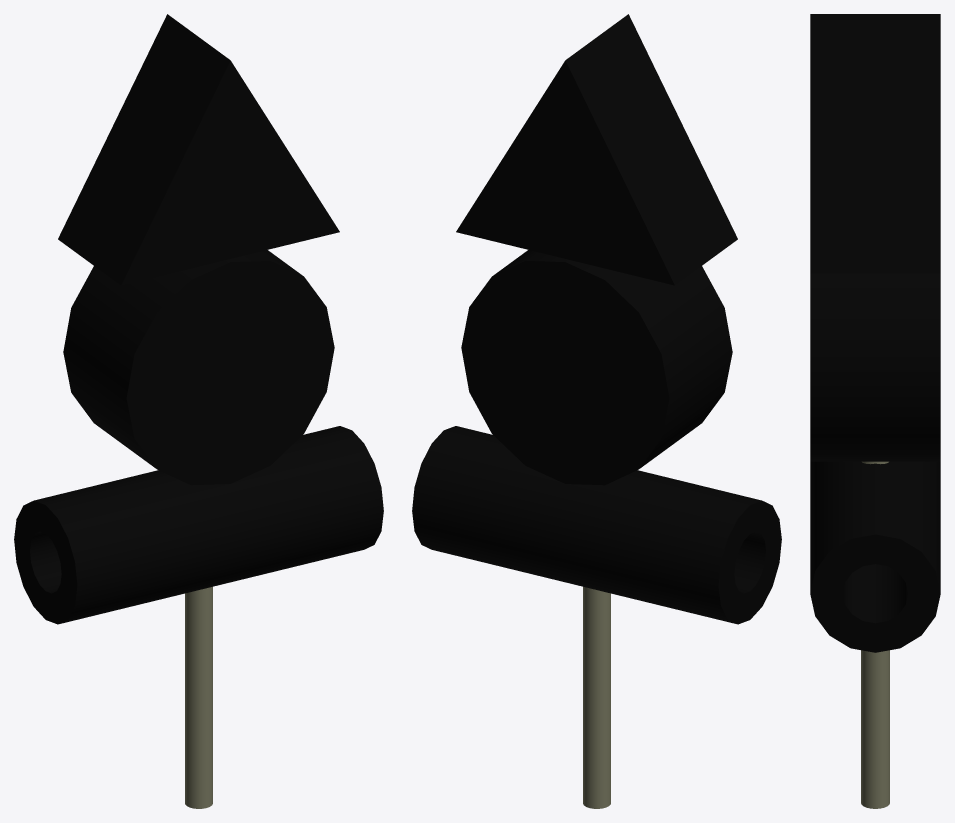
File: Black_oden.fbx
The picture shows the model from 3 angles, left to right: view 1: azimuth 30°, elevation 25°; view 2: azimuth 150°, elevation 25°; view 3: azimuth 270°, elevation 25°; orthographic projection. The views are drawn at different scales.
Visible parts, largest first — view 1: polySurface2; view 2: polySurface2; view 3: polySurface2.
Part boxes in pixels (x1,y1,x2,y2): polySurface2: (14, 14, 383, 808); polySurface2: (412, 14, 781, 808); polySurface2: (810, 14, 940, 808).
Size of the model in its own units: 1.12 by 2.67 by 0.4009.
